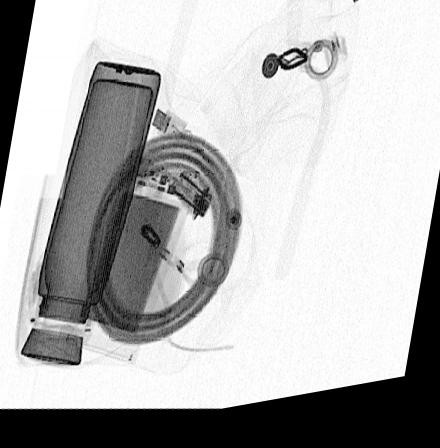Powerbank: (73, 158, 201, 367)
